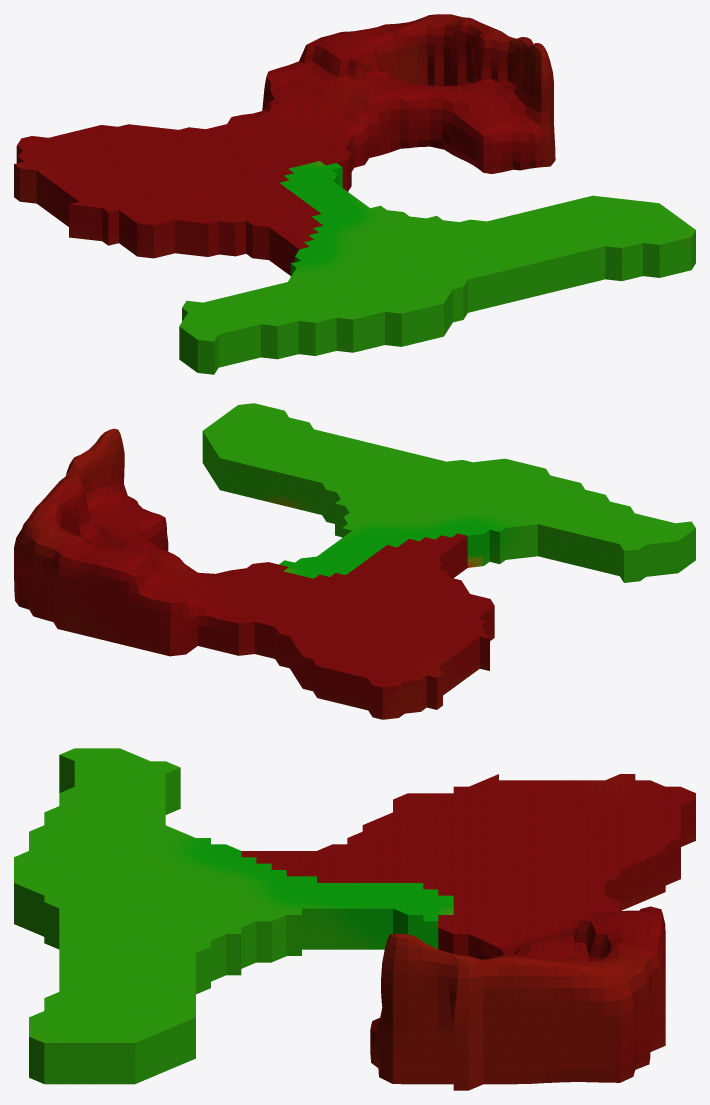
The model's file is base_map_vertex_colors.glb.
The picture shows the model from 3 angles, top to bottom: view 1: azimuth 30°, elevation 25°; view 2: azimuth 150°, elevation 25°; view 3: azimuth 270°, elevation 25°; orthographic projection. The views are drawn at different scales.
Parts seen in each view (by area): view 1: Grid.003; view 2: Grid.003; view 3: Grid.003.
Part boxes in pixels (box(x1,y1,x2,y2)): Grid.003: box(14, 14, 695, 374); Grid.003: box(14, 403, 695, 719); Grid.003: box(14, 748, 695, 1090).
Bounding box in the file's own units: 188 × 41.62 × 180.
1 material, 1 textured.
